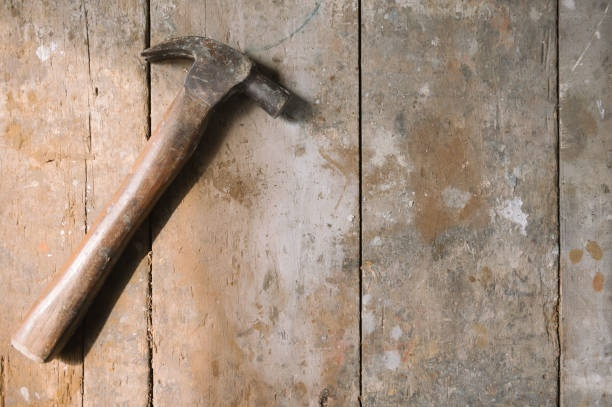hammer: (12, 34, 291, 368)
